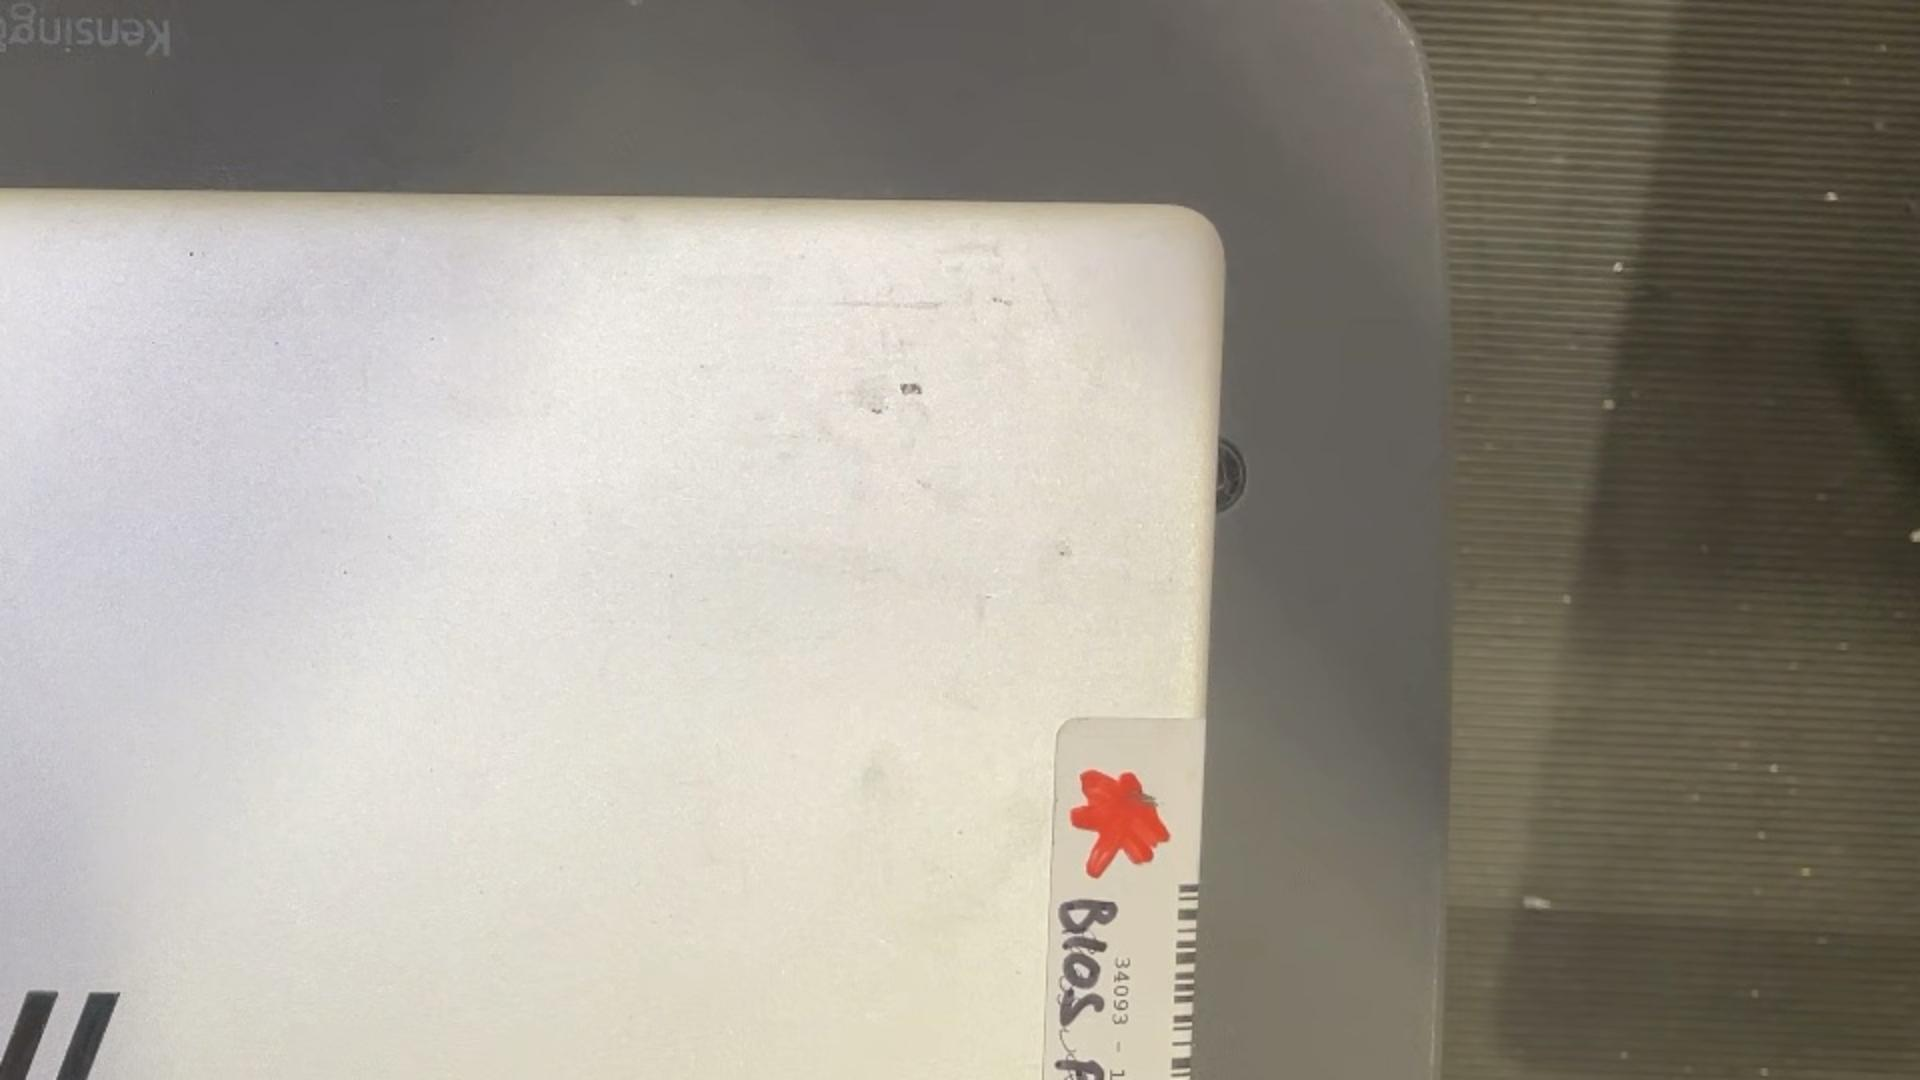chip: (186, 248, 199, 260)
